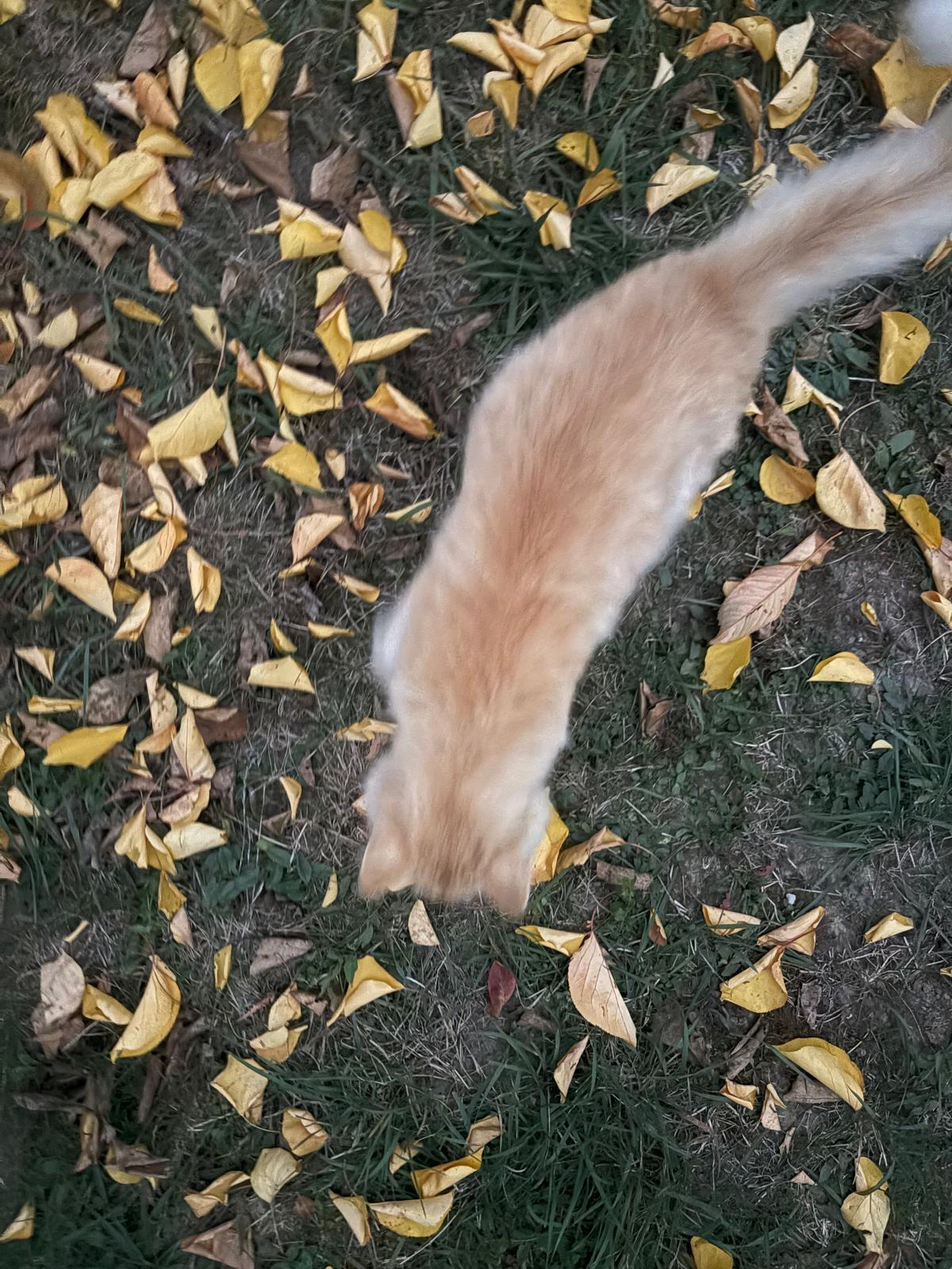macka: (358, 121, 951, 918)
